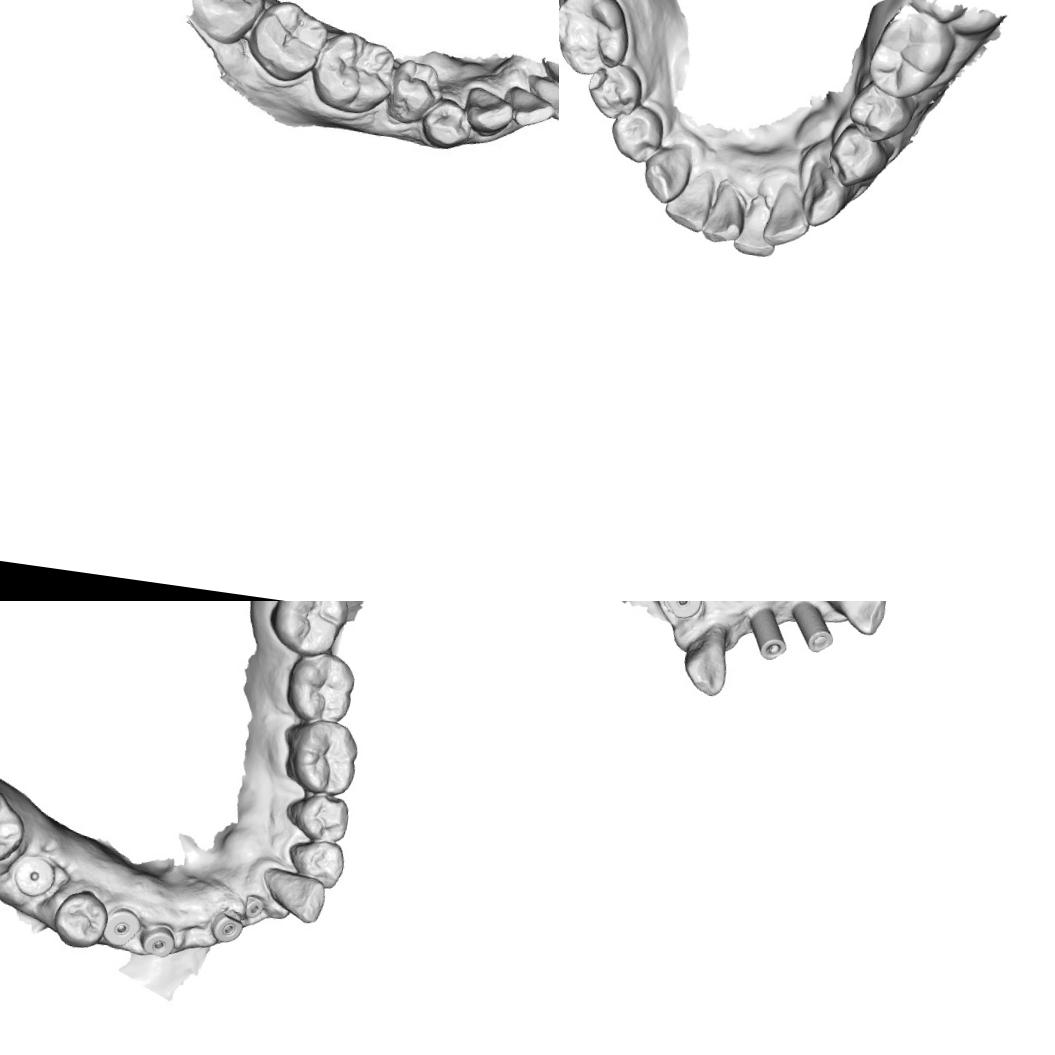canine: (796, 156, 853, 232), (258, 866, 329, 926), (639, 137, 696, 208), (678, 633, 732, 700), (466, 84, 515, 140), (827, 601, 891, 638)
implant: (740, 602, 793, 664), (786, 601, 840, 655), (9, 852, 60, 902), (100, 904, 144, 950), (137, 920, 178, 960), (206, 906, 246, 946), (658, 601, 706, 621), (242, 893, 266, 920)
incisor: (759, 180, 815, 251), (730, 189, 785, 260), (660, 168, 716, 236), (699, 177, 749, 247), (506, 84, 555, 132), (524, 69, 559, 124)
molar: (864, 2, 960, 106), (308, 29, 397, 116), (244, 0, 332, 85), (280, 715, 363, 798), (559, 0, 637, 81), (282, 646, 358, 727), (267, 601, 354, 661), (185, 0, 270, 50), (0, 778, 30, 872)
premolar: (842, 78, 917, 148), (823, 122, 890, 190), (581, 59, 650, 125), (604, 101, 670, 168), (49, 886, 112, 954), (381, 57, 440, 126), (282, 788, 352, 846), (284, 835, 348, 892), (418, 96, 472, 152)
